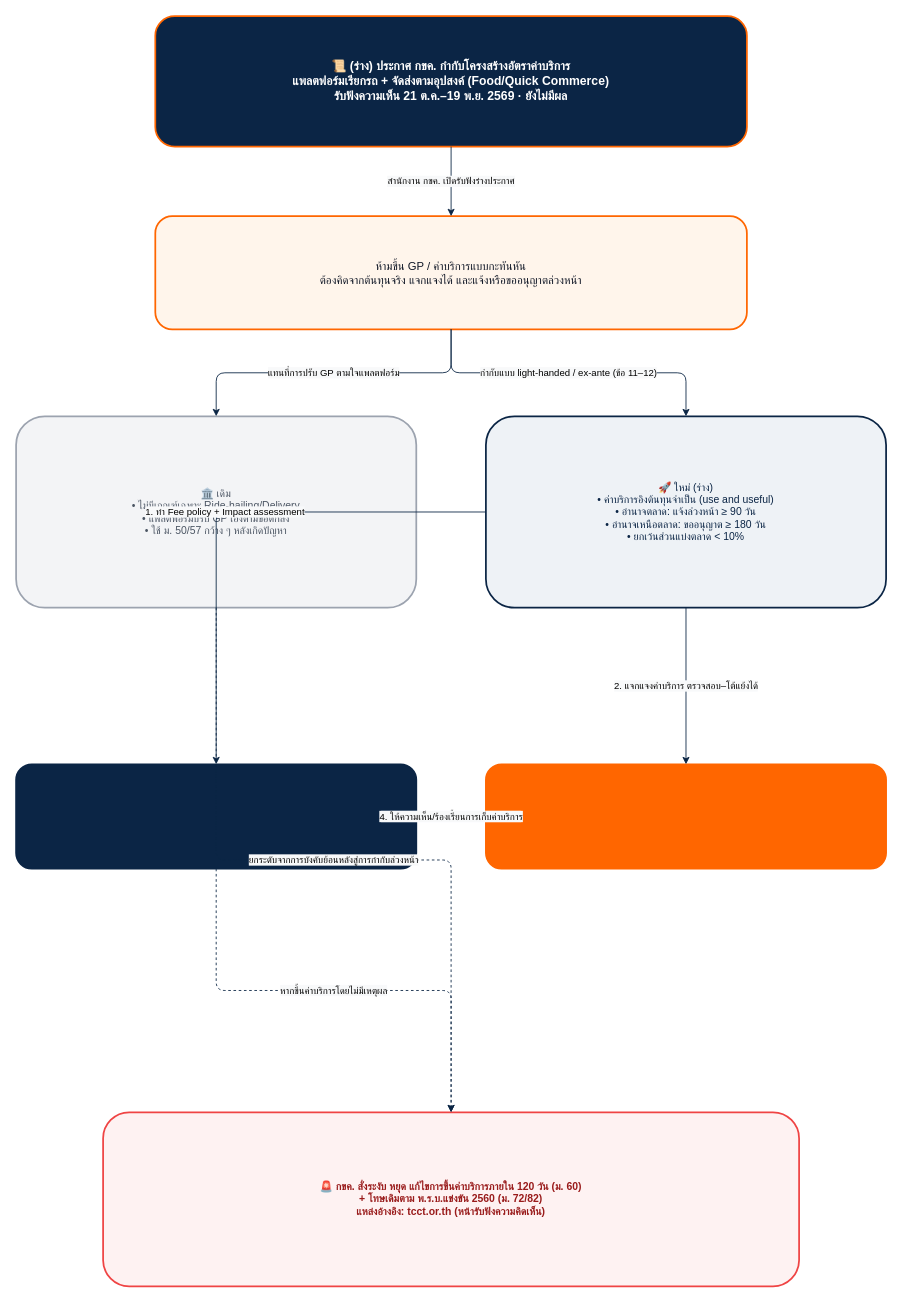
The diagram is 901 pixels wide and 1302 high, and some of its shapes have lost their labels. The centre of each missing label's shape, as x and y in pixels:
🏢 แพลตฟอร์มเรียกรถ / ส่งอาหาร / Quick Commerce: pixel 216 816
👤 ไรเดอร์–คนขับ / ร้านอาหาร / ผู้บริโภค: pixel 686 816
